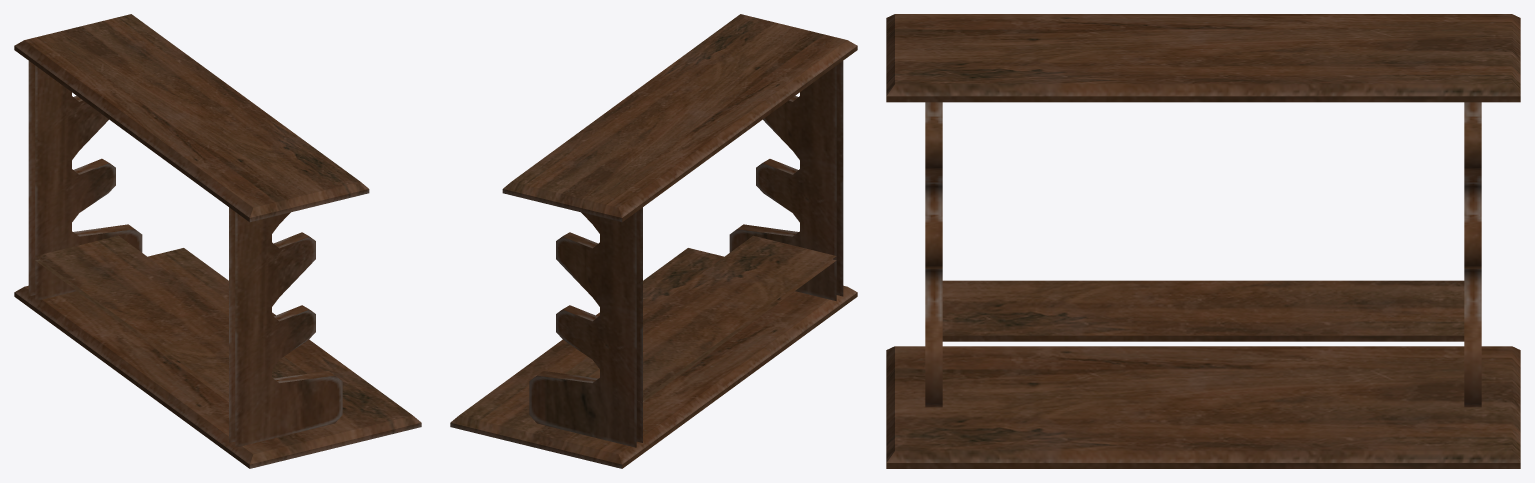
Rendered from SM_RifleRack.FBX.
3 views of the same model, side by side, from view 1: azimuth 30°, elevation 25°; view 2: azimuth 150°, elevation 25°; view 3: azimuth 270°, elevation 25° (orthographic). The views are drawn at different scales.
Visible parts, largest first — view 1: SM_RifleRack; view 2: SM_RifleRack; view 3: SM_RifleRack.
Boxes of the visible parts, x1,y1,x2,y2 form: SM_RifleRack: [14, 14, 421, 468]; SM_RifleRack: [450, 14, 857, 468]; SM_RifleRack: [886, 14, 1520, 468].
Bounding box in the file's own units: 30.78 × 44.02 × 73.02.
